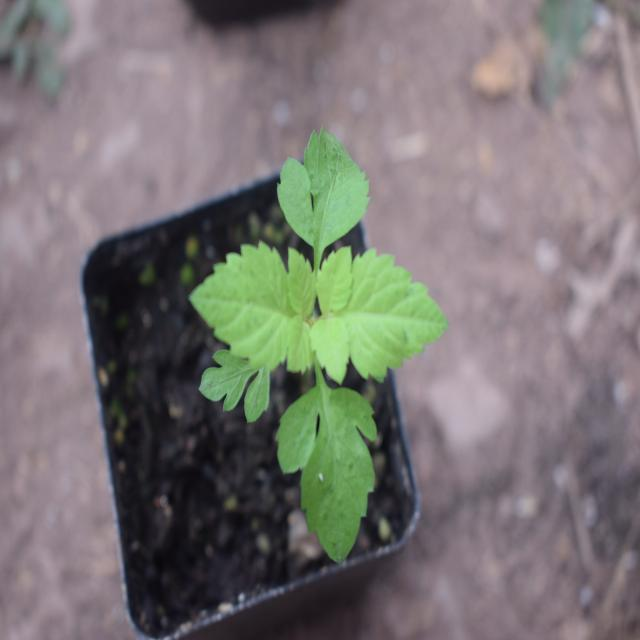Bidens pilosa: (176, 121, 435, 542)
